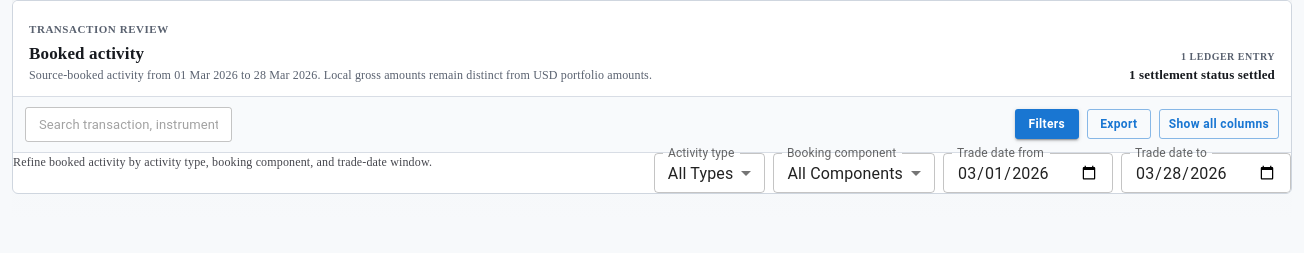
Test: portfolio data grids › shows a shared refresh note while transactions reload over existing rows
Type "2026-03-05" into the date field named "Transaction start date" at (1028, 173), box [943, 153, 1113, 193]
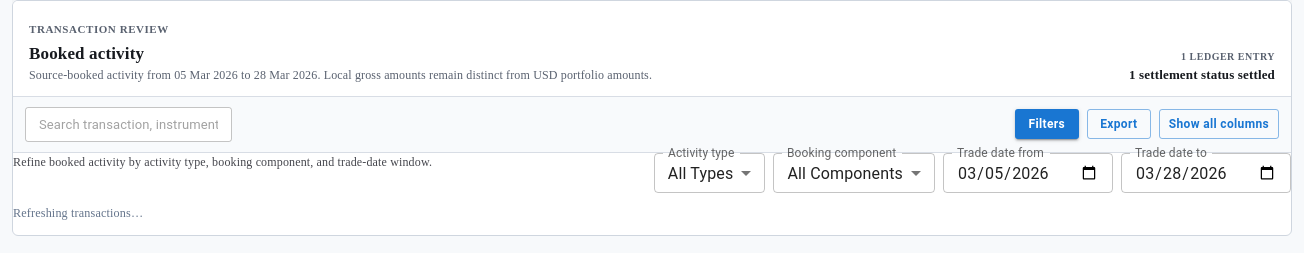
Check: the text "Refreshing transactions…" is shown, box [13, 206, 143, 220]
